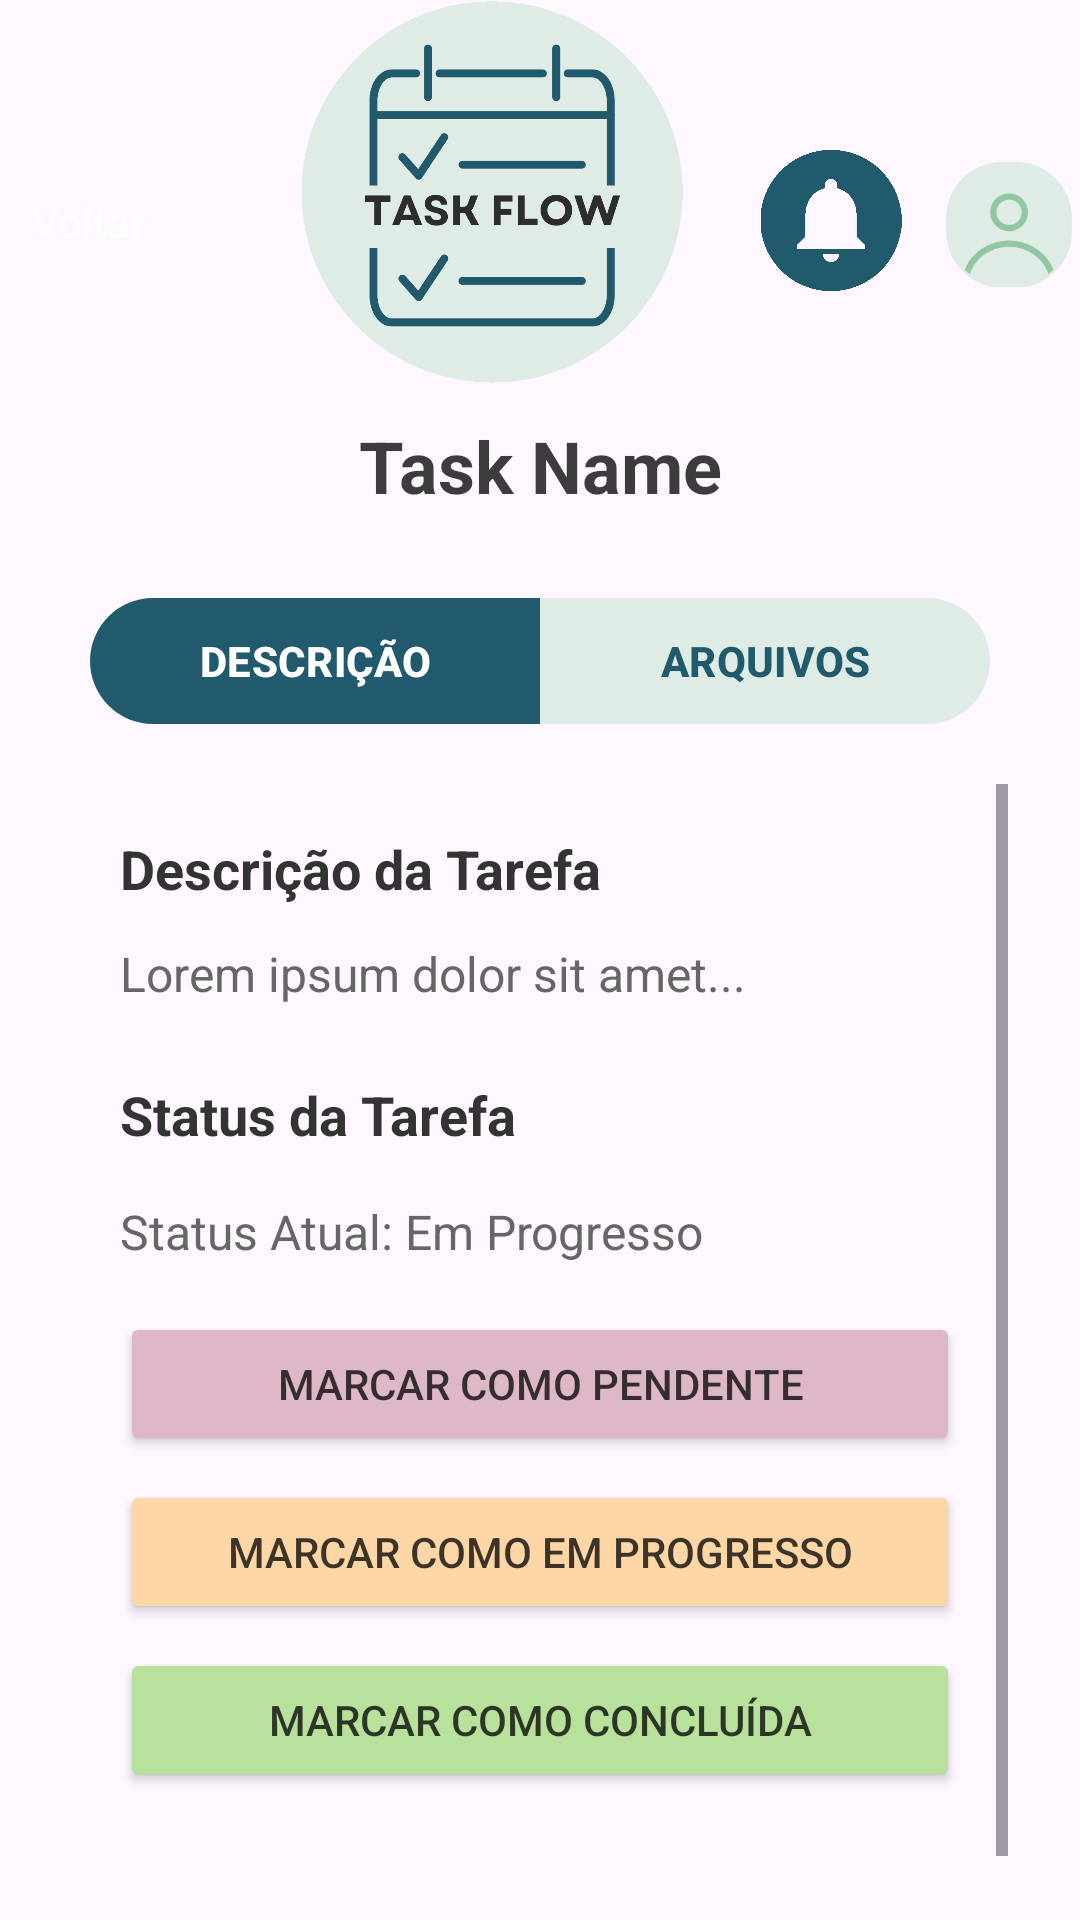

Where to tap for icons on this 1080x1920 app screen, as (x,y):
notificationbllue: (831,220)
usertype: (1009,224)
